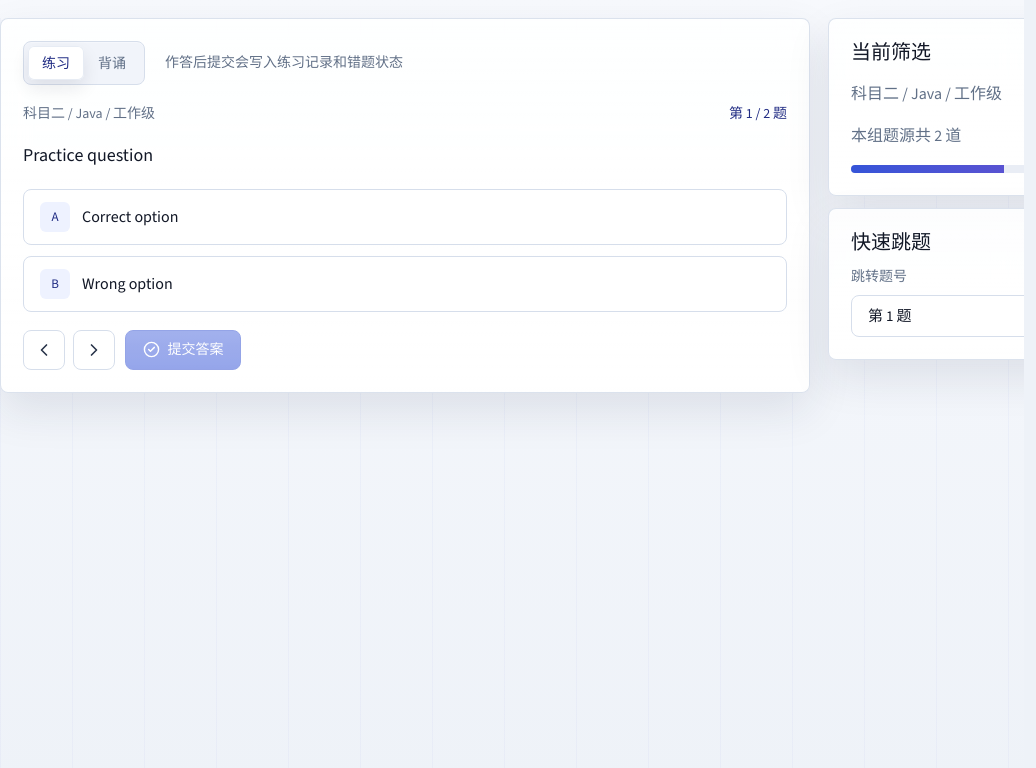
Scenario: PracticePage › shows an inline retryable error when practice submission fails
Expected: the text "Practice question" is shown, [23,143,153,167]
Step 1. Click the button "A Correct option" → (130, 216), box [23,189,787,245]
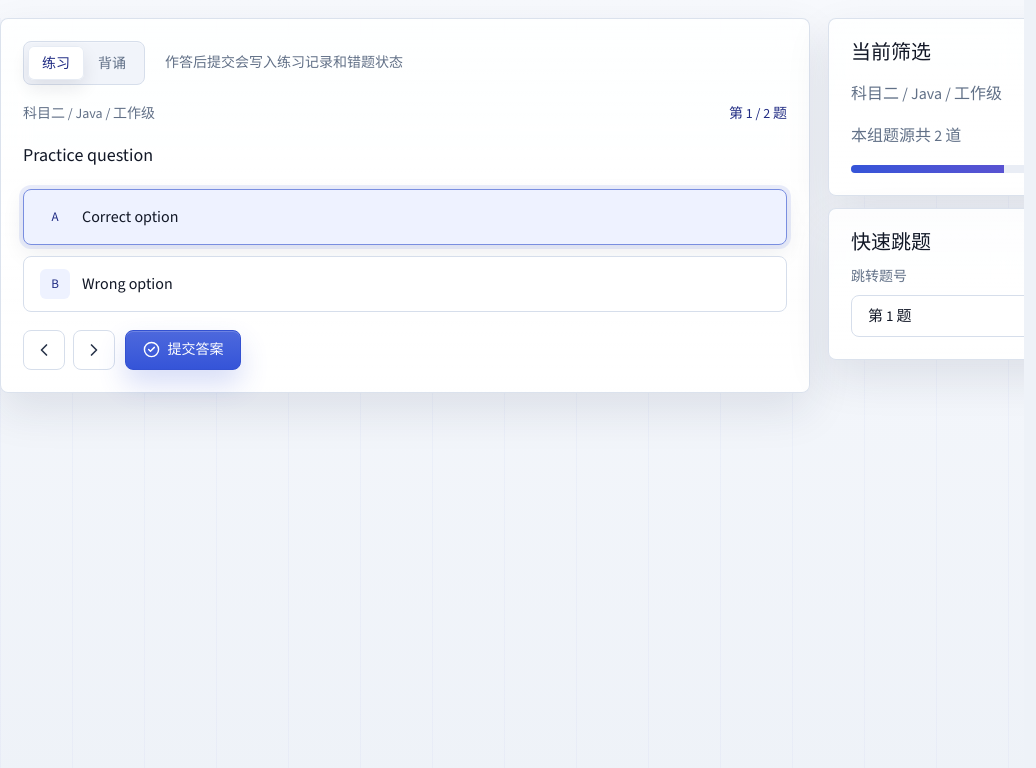
Step 2. Click the button "提交答案" → (183, 350), box [125,330,241,370]
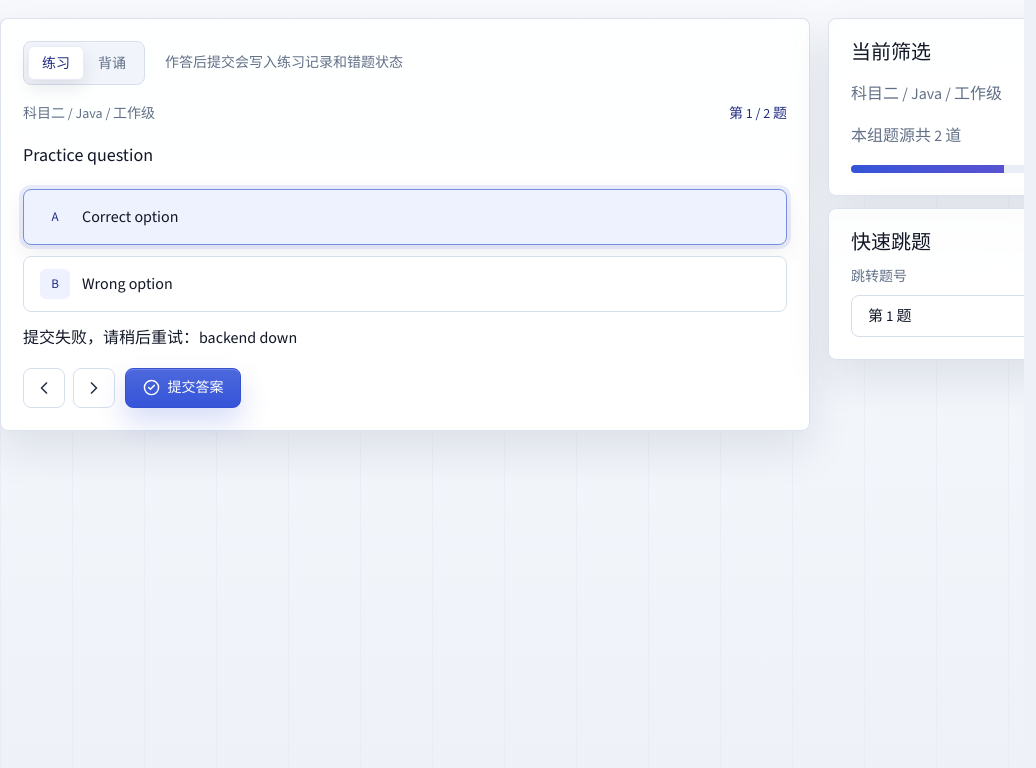
Now the message shows "提交失败，请稍后重试", box [23,327,297,348]
Step 3. Click the button "提交答案" → (183, 388), box [125,368,241,408]
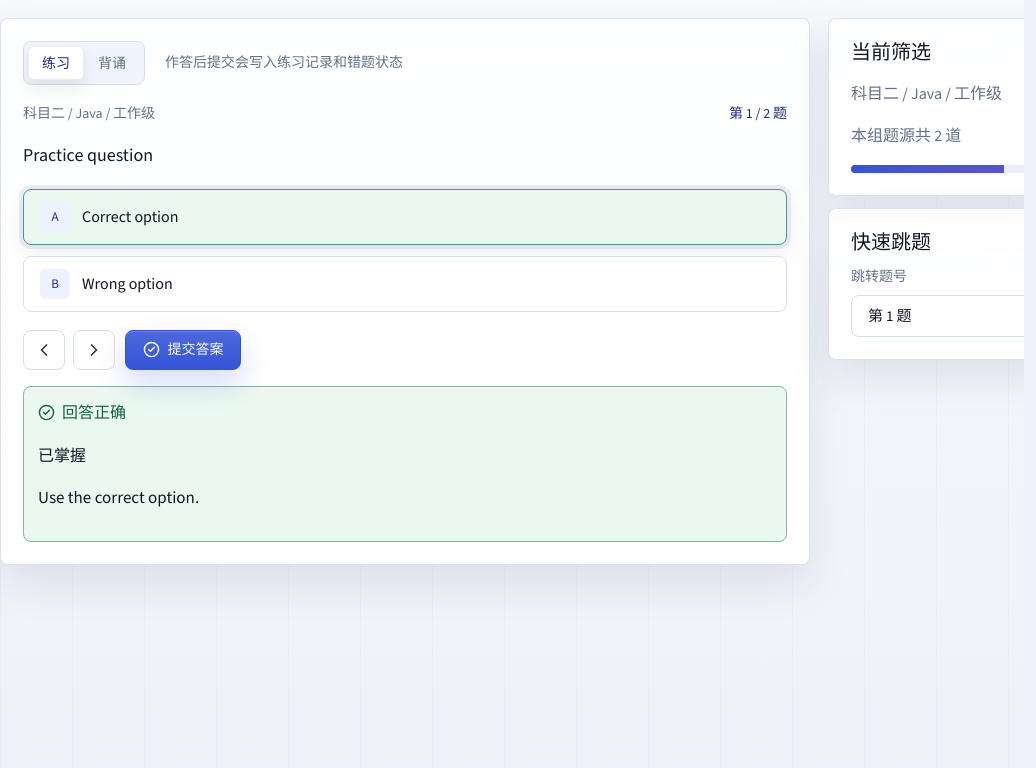
Now the message shows "回答正确", box [62,402,126,423]
